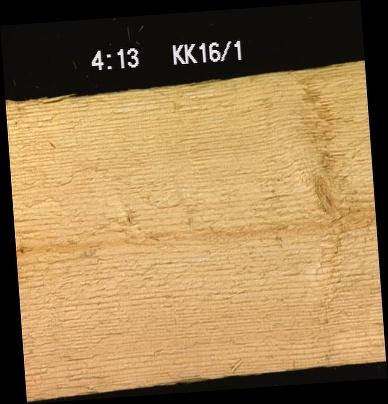small_knot: (124, 210, 132, 224), (18, 246, 24, 254)
split: (5, 92, 141, 102)
